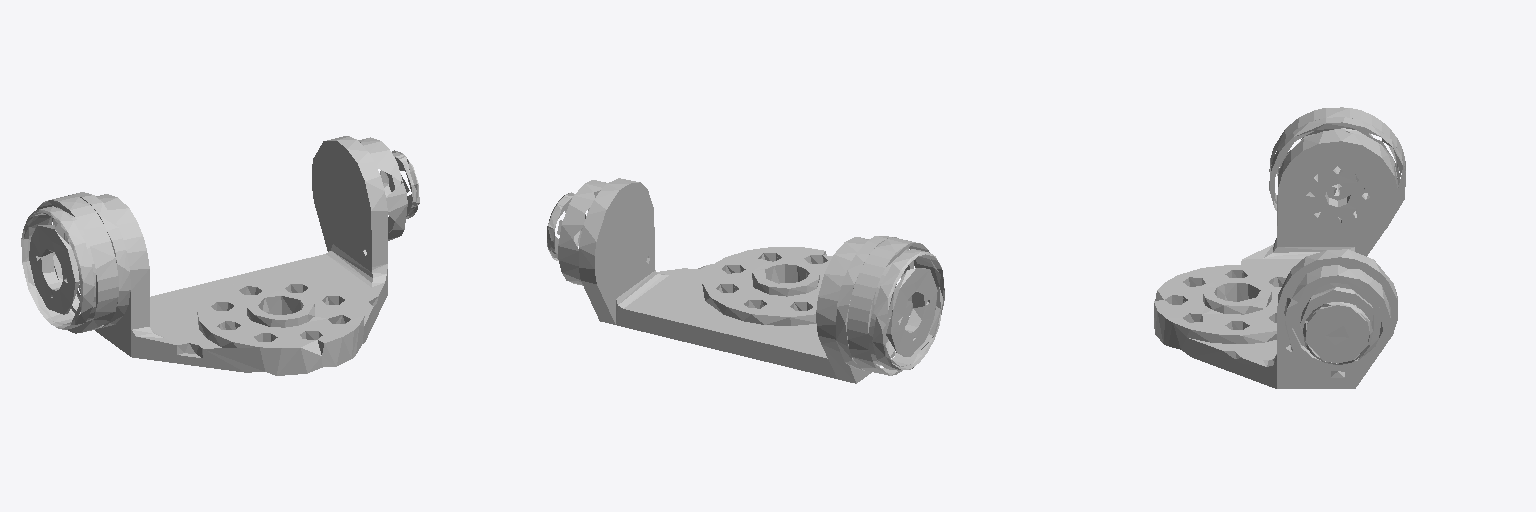
Rendered from sim_ecub_r_ankle_1.obj.
3 renders of one model, left to right at view 1: azimuth 30°, elevation 25°; view 2: azimuth 150°, elevation 25°; view 3: azimuth 270°, elevation 25°, orthographic.
Bounding box in the file's own units: 142 × 53.6 × 87.86.